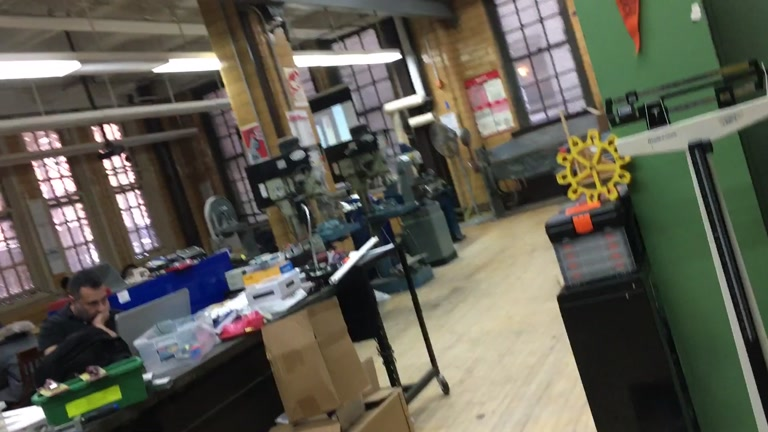gear: (555, 127, 633, 206)
